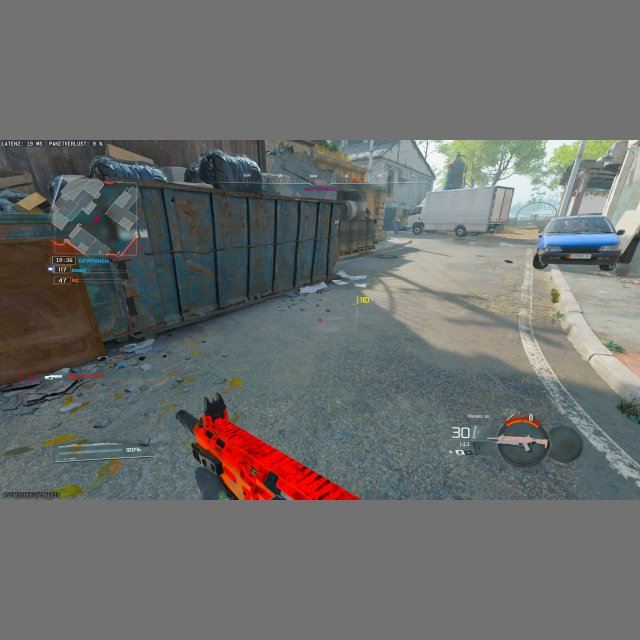player: (393, 215, 401, 235)
